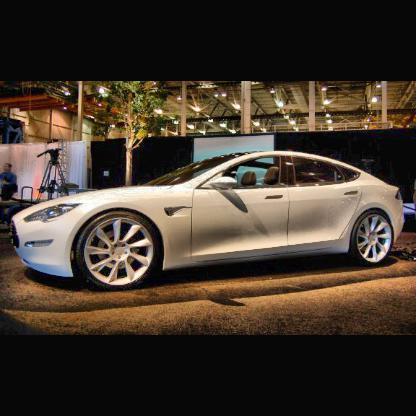Tesla Model S Sedan 2012: (8, 139, 416, 310)
